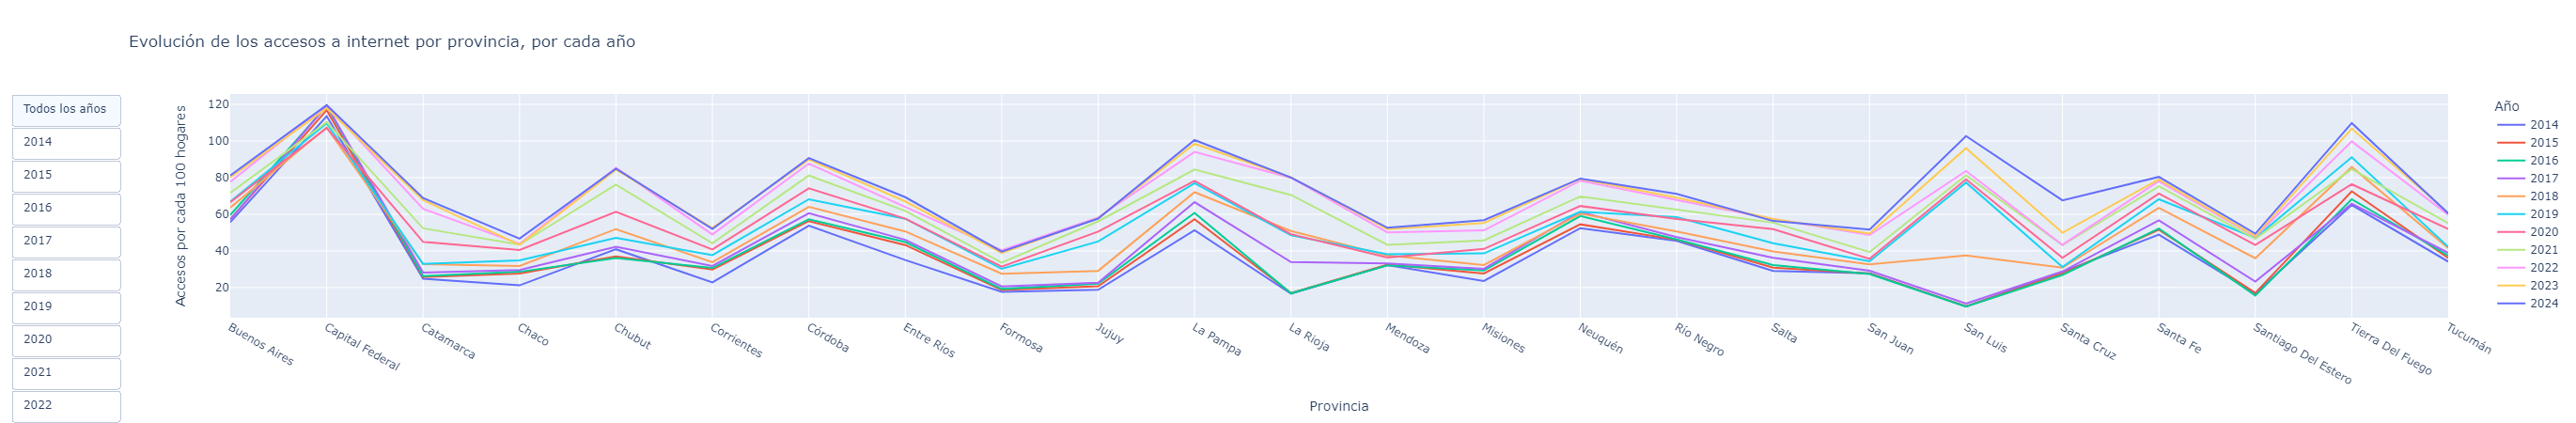

The page's visual inventory and layout, read from the dashboard file:
{"tool":"powerbi","page":{"name":"Página 2","canvas":[1280,720],"ordinal":1},"visuals":[{"type":"lineChart","fields":{"Category":["Penetracion-hogares.Provincia","Penetracion-hogares.Año"],"Y":["Avg(Penetracion-hogares.Accesos por cada 100 hogares)"]},"box":[51.9,269.5,761.1,318.6],"z":0},{"type":"advancedSlicerVisual","fields":{"Values":["Penetracion-hogares.Año"]},"box":[51.9,25.9,269.5,147],"z":1},{"type":"card","box":[935.5,37.5,304.1,149.9],"z":2},{"type":"advancedSlicerVisual","fields":{"Values":["Penetracion-hogares.Provincia"]},"box":[484.3,25.9,328.6,147],"z":3}]}

Visuals, with their boxes on the page's 1280x720 design canvas (x1, y1, x2, y2). These are canvas units, not pixel positions in the 2576x423 screenshot, which may show the page scaled, cropped or inside an application window:
lineChart - Penetracion-hogares.Provincia x Penetracion-hogares.Año: box=[52, 270, 813, 588]
advancedSlicerVisual - Penetracion-hogares.Año: box=[52, 26, 321, 173]
card: box=[936, 38, 1240, 187]
advancedSlicerVisual - Penetracion-hogares.Provincia: box=[484, 26, 813, 173]
